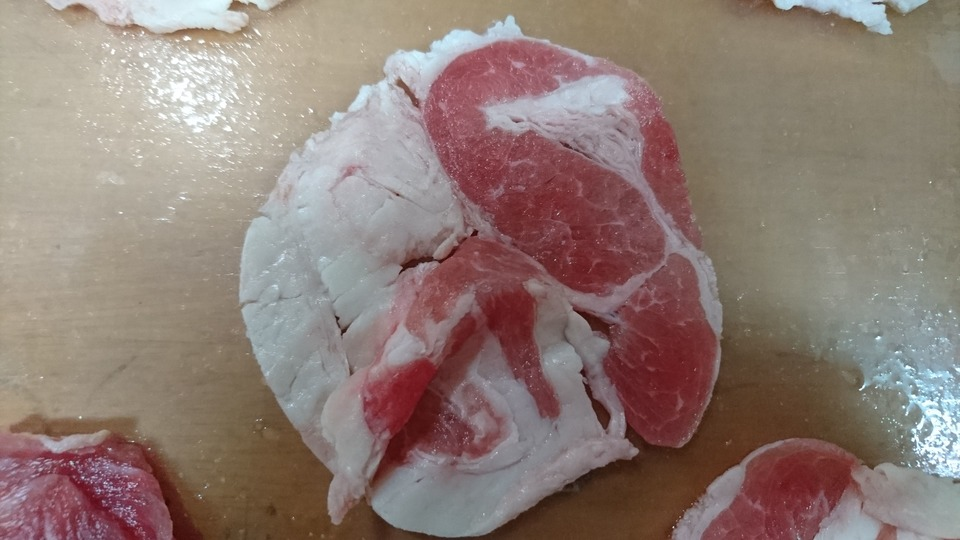restructured meat: (241, 28, 720, 535)
